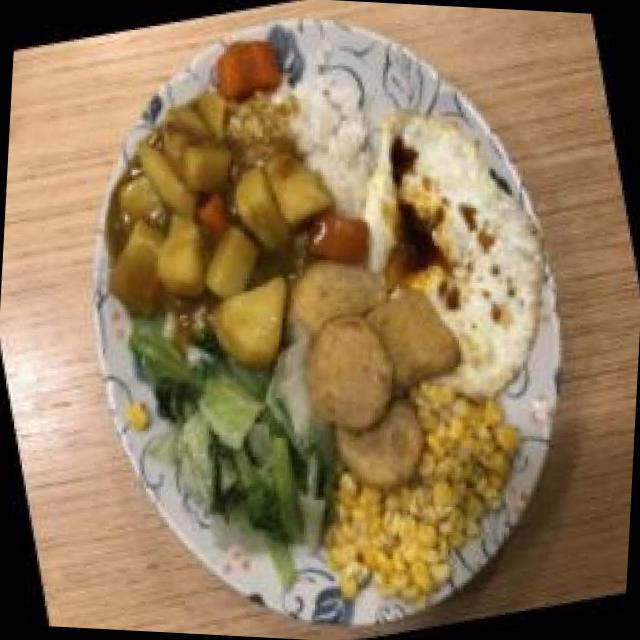chicken_nuggets: (276, 231, 492, 501)
curry: (94, 96, 316, 340)
fried_eggs: (350, 80, 580, 413)
rice: (284, 70, 386, 208)
